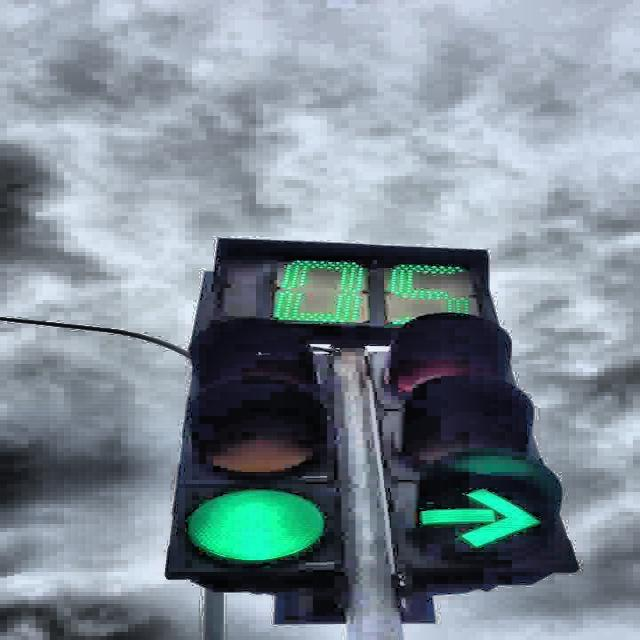green: (362, 312, 580, 574), (163, 318, 340, 578)
